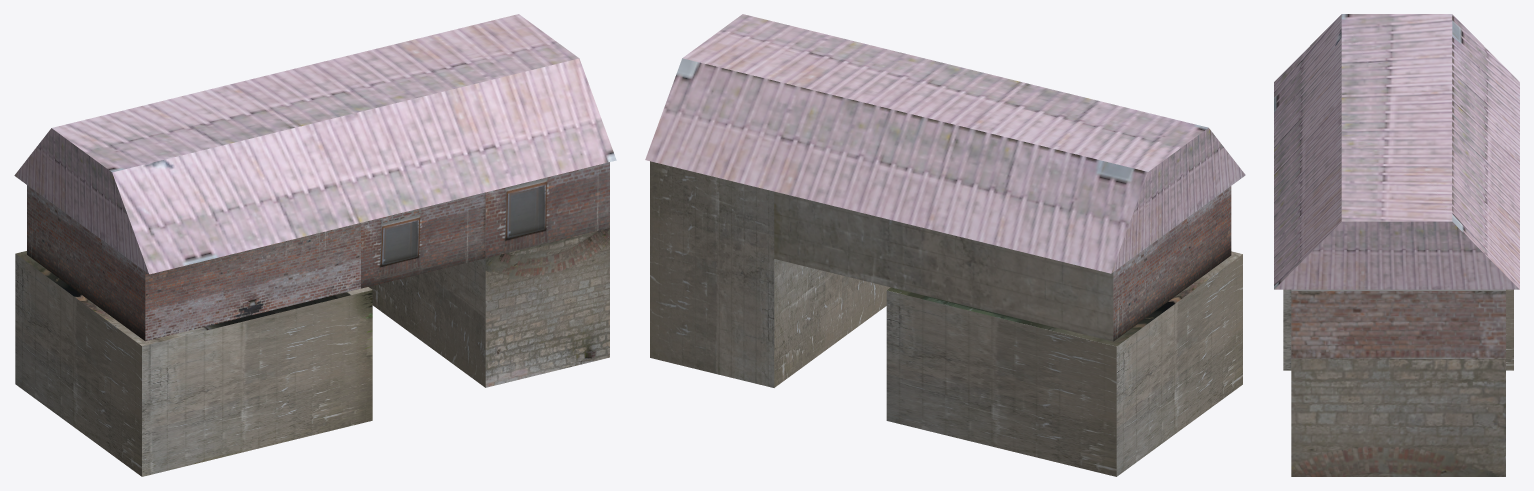
The model's file is Casa1.fbx.
3 renders of one model, left to right at view 1: azimuth 30°, elevation 25°; view 2: azimuth 150°, elevation 25°; view 3: azimuth 270°, elevation 25°, orthographic. The views are drawn at different scales.
Visible parts, largest first — view 1: Cube; view 2: Cube; view 3: Cube.
Boxes of the visible parts, x1,y1,x2,y2 form: Cube: (14, 14, 616, 476); Cube: (645, 14, 1245, 476); Cube: (1274, 14, 1519, 476).
Bounding box in the file's own units: 1282 × 635 × 727.
